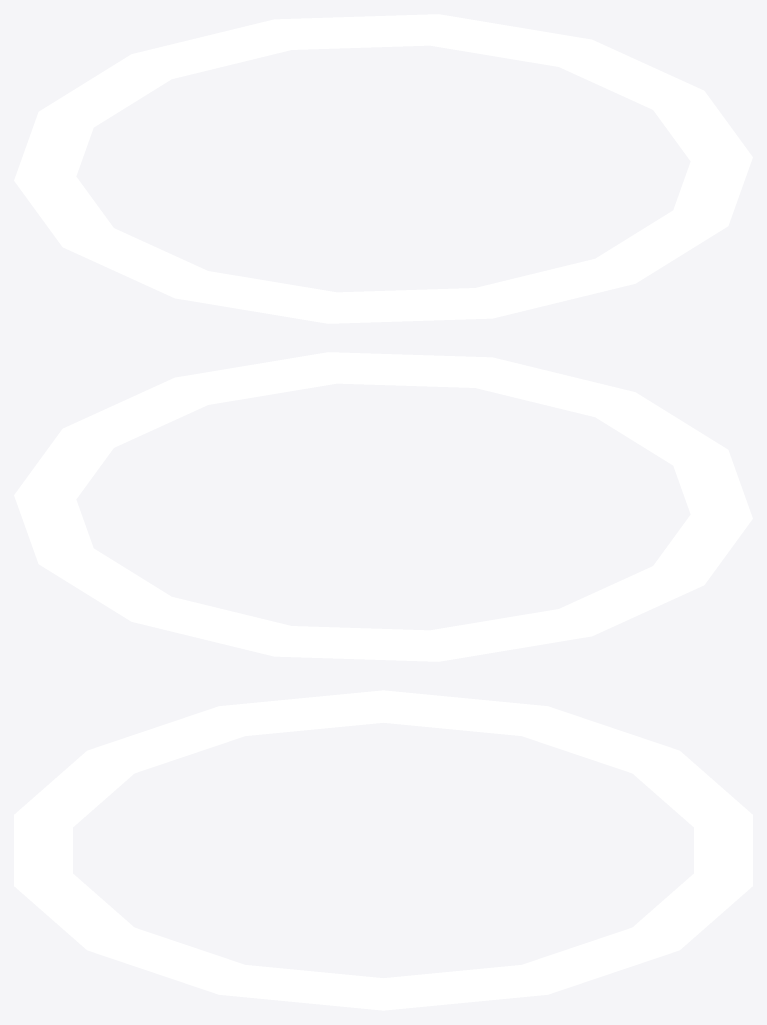
The model's file is SM_VFX_ShockRing_LQ.glb.
3 renders of one model, top to bottom at view 1: azimuth 30°, elevation 25°; view 2: azimuth 150°, elevation 25°; view 3: azimuth 270°, elevation 25°, orthographic. The views are drawn at different scales.
Parts seen in each view (by area): view 1: SM_VFX_ShockRing_LQ; view 2: SM_VFX_ShockRing_LQ; view 3: SM_VFX_ShockRing_LQ.
Boxes of the visible parts, left/top/right/bottom form: SM_VFX_ShockRing_LQ: left=14, top=14, right=752, bottom=323; SM_VFX_ShockRing_LQ: left=14, top=352, right=752, bottom=661; SM_VFX_ShockRing_LQ: left=14, top=690, right=752, bottom=1010.
Size of the model in its own units: 2 by 0.04 by 1.95.
1 material, 1 textured.
